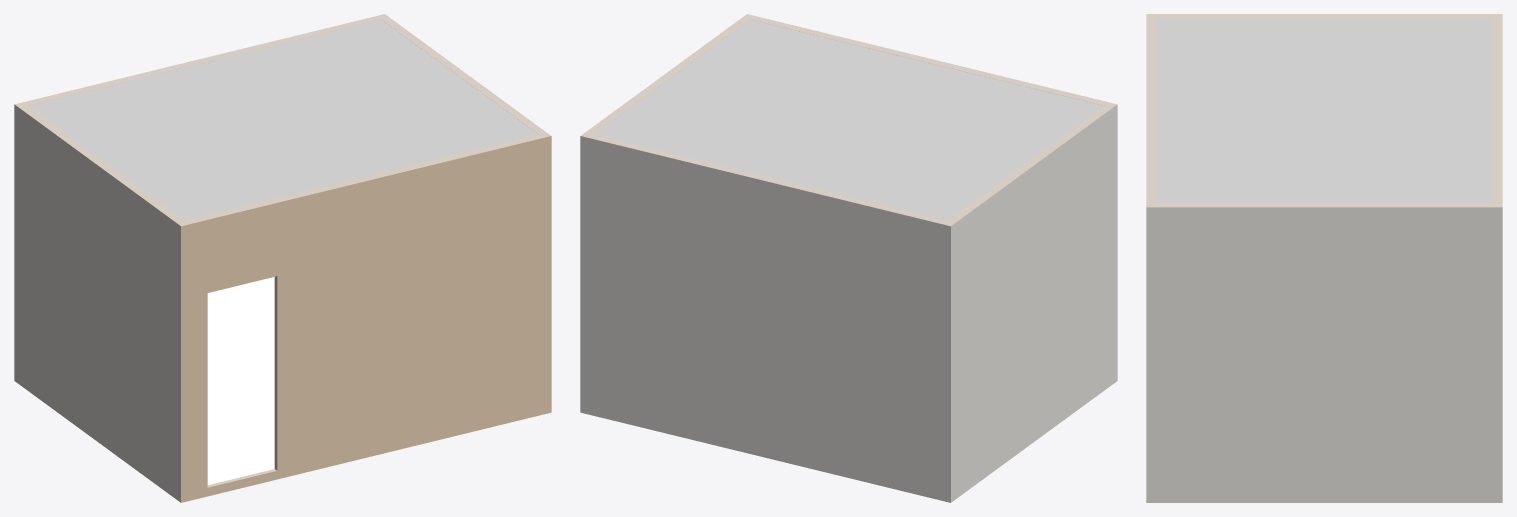
The model's file is closet.glb.
3 views of the same model, side by side, from view 1: azimuth 30°, elevation 25°; view 2: azimuth 150°, elevation 25°; view 3: azimuth 270°, elevation 25° (orthographic). The views are drawn at different scales.
Visible parts, largest first — view 1: Wall_3, Ceiling_Room, Wall_2, Door_0, Wall_0, Wall_1; view 2: Wall_0, Ceiling_Room, Wall_2, Wall_3, Wall_1; view 3: Wall_1, Ceiling_Room, Wall_0, Wall_3, Wall_2.
Boxes of the visible parts, <box> form: Wall_3: <box>181,134,551,502</box>; Ceiling_Room: <box>28,19,537,220</box>; Wall_2: <box>14,104,184,502</box>; Door_0: <box>207,277,274,485</box>; Wall_0: <box>15,14,384,105</box>; Wall_1: <box>381,14,550,135</box>; Wall_0: <box>580,134,950,502</box>; Ceiling_Room: <box>594,19,1103,220</box>; Wall_2: <box>947,104,1117,502</box>; Wall_3: <box>747,14,1116,105</box>; Wall_1: <box>581,14,750,135</box>; Wall_1: <box>1146,203,1502,502</box>; Ceiling_Room: <box>1156,18,1492,202</box>; Wall_0: <box>1492,14,1502,206</box>; Wall_3: <box>1146,14,1156,206</box>; Wall_2: <box>1147,14,1501,18</box>.
Bounding box in the file's own units: 4.5 × 3.21 × 3.51.
9 materials, 3 textured.
